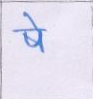e_matra: (22, 12, 40, 28)
